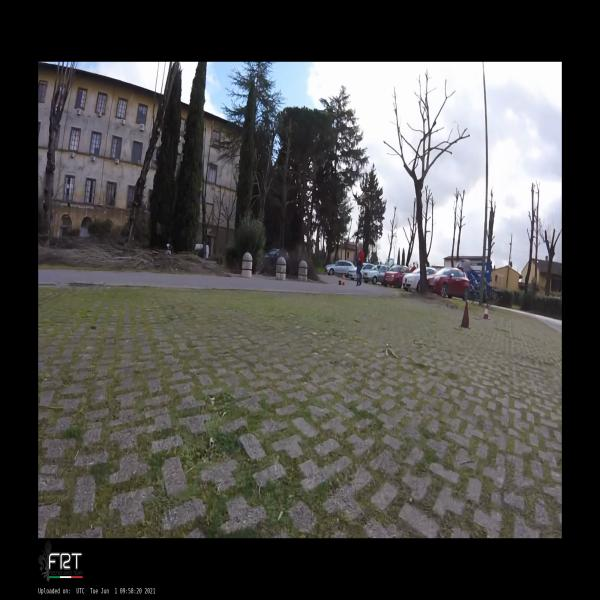large_orange_cone: (342, 274, 345, 285)
orange_cone: (483, 304, 490, 319)
unknown_cone: (459, 302, 472, 329)
